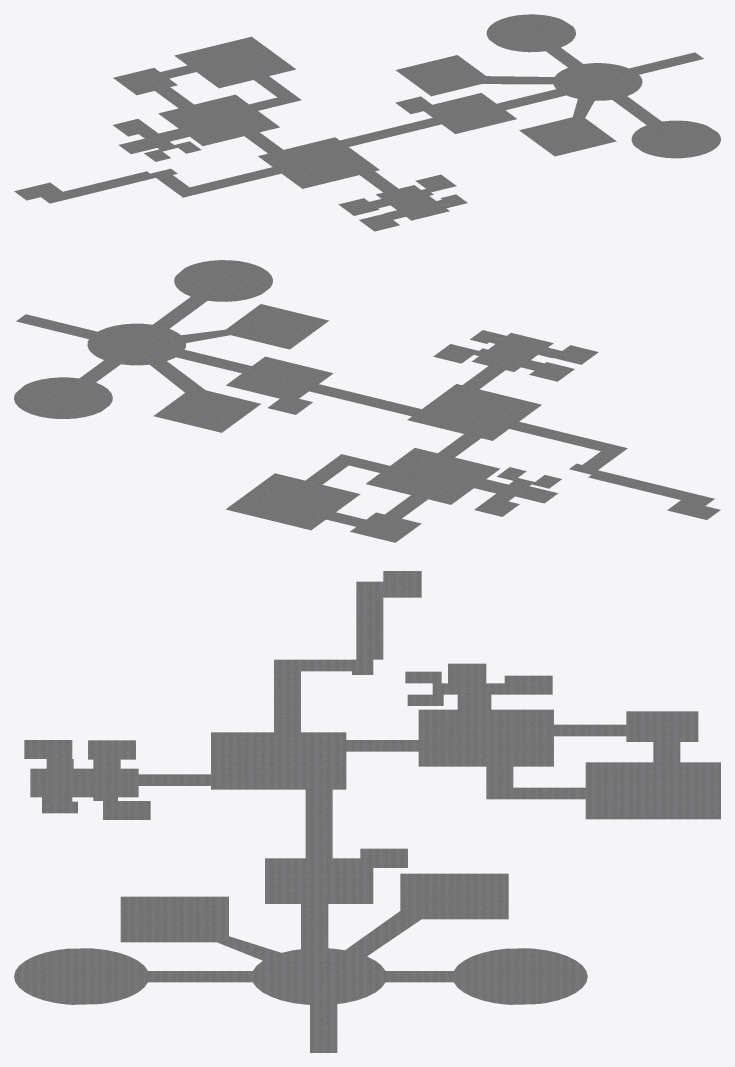
Rendered from Level2Roof.fbx.
The picture shows the model from 3 angles, top to bottom: view 1: azimuth 30°, elevation 25°; view 2: azimuth 150°, elevation 25°; view 3: azimuth 270°, elevation 25°; orthographic projection. The views are drawn at different scales.
Parts seen in each view (by area): view 1: Level2Roof; view 2: Level2Roof; view 3: Level2Roof.
Boxes of the visible parts, <box> form: Level2Roof: <box>14,14,720,231</box>; Level2Roof: <box>14,260,720,542</box>; Level2Roof: <box>14,571,720,1052</box>.
Size of the model in its own units: 126 by 0 by 78.3.
